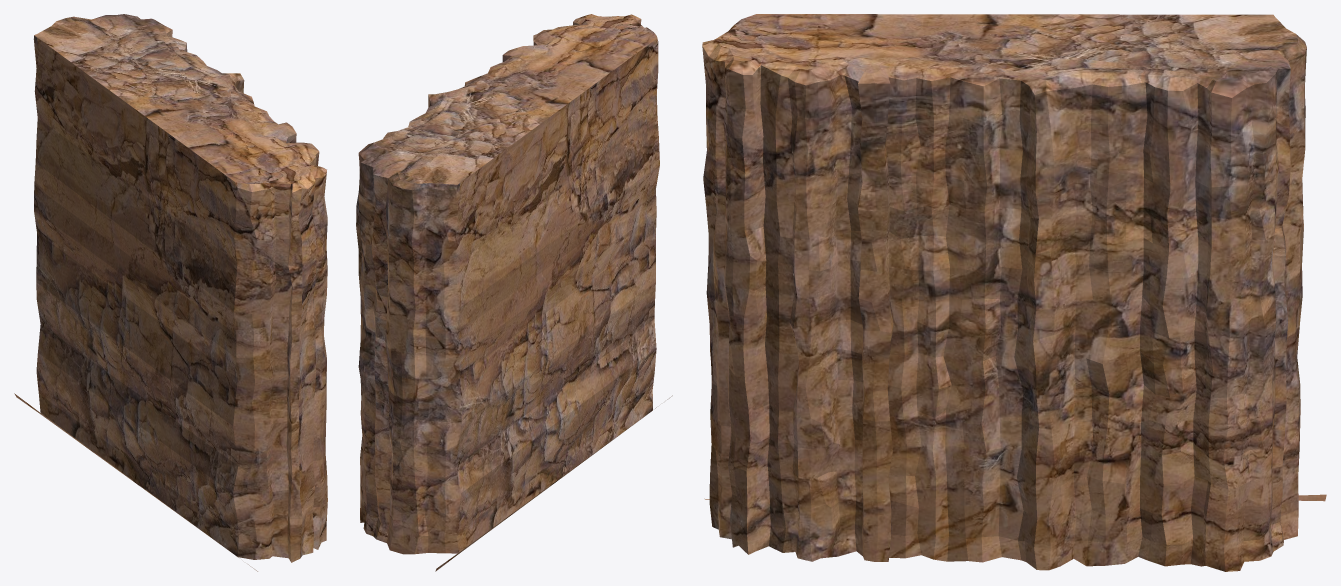
The model's file is Mountain1.blend.fbx.
The picture shows the model from 3 angles, left to right: view 1: azimuth 30°, elevation 25°; view 2: azimuth 150°, elevation 25°; view 3: azimuth 270°, elevation 25°; orthographic projection. The views are drawn at different scales.
Parts seen in each view (by area): view 1: Plane; view 2: Plane; view 3: Plane.
Part boxes in pixels (x1,y1,x2,y2): Plane: (14,14,327,571); Plane: (356,14,672,571); Plane: (702,14,1326,571).
Bounding box in the file's own units: 1339 × 3966 × 4596.
